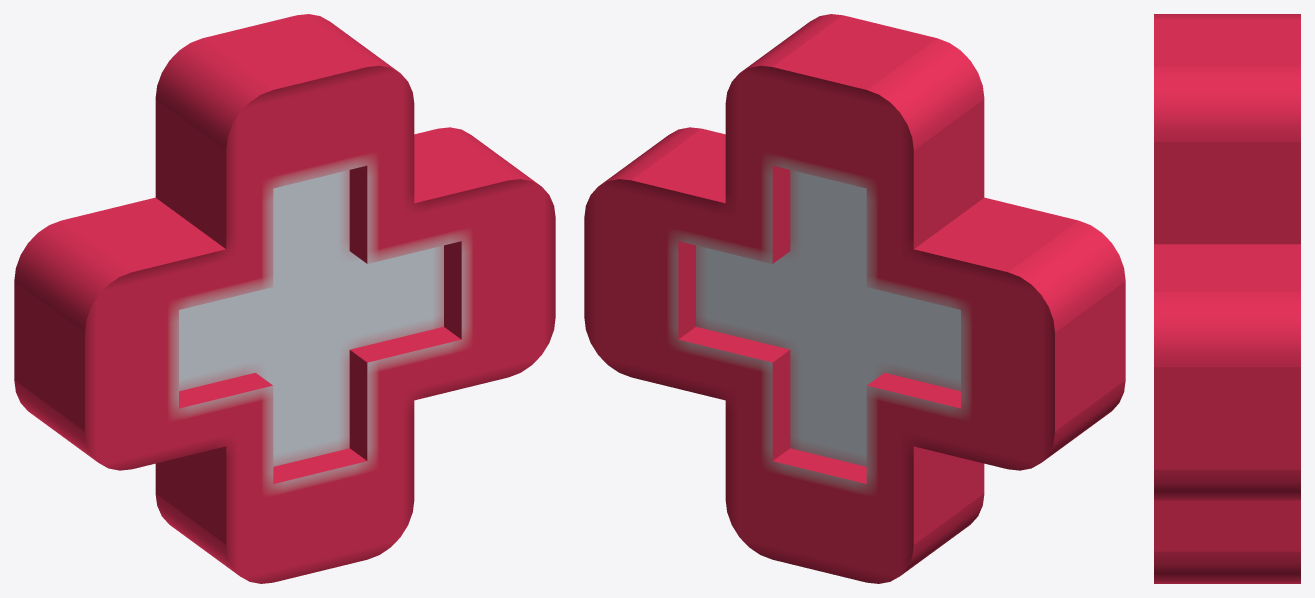
Rendered from Health.fbx.
3 views of the same model, side by side, from view 1: azimuth 30°, elevation 25°; view 2: azimuth 150°, elevation 25°; view 3: azimuth 270°, elevation 25° (orthographic). The views are drawn at different scales.
Visible parts, largest first — view 1: generated; view 2: generated; view 3: generated.
Part boxes in pixels (x1,y1,x2,y2): generated: [14, 14, 555, 583]; generated: [584, 14, 1125, 583]; generated: [1154, 14, 1300, 583].
Size of the model in its own units: 100 by 100 by 26.
1 material, 1 textured.
